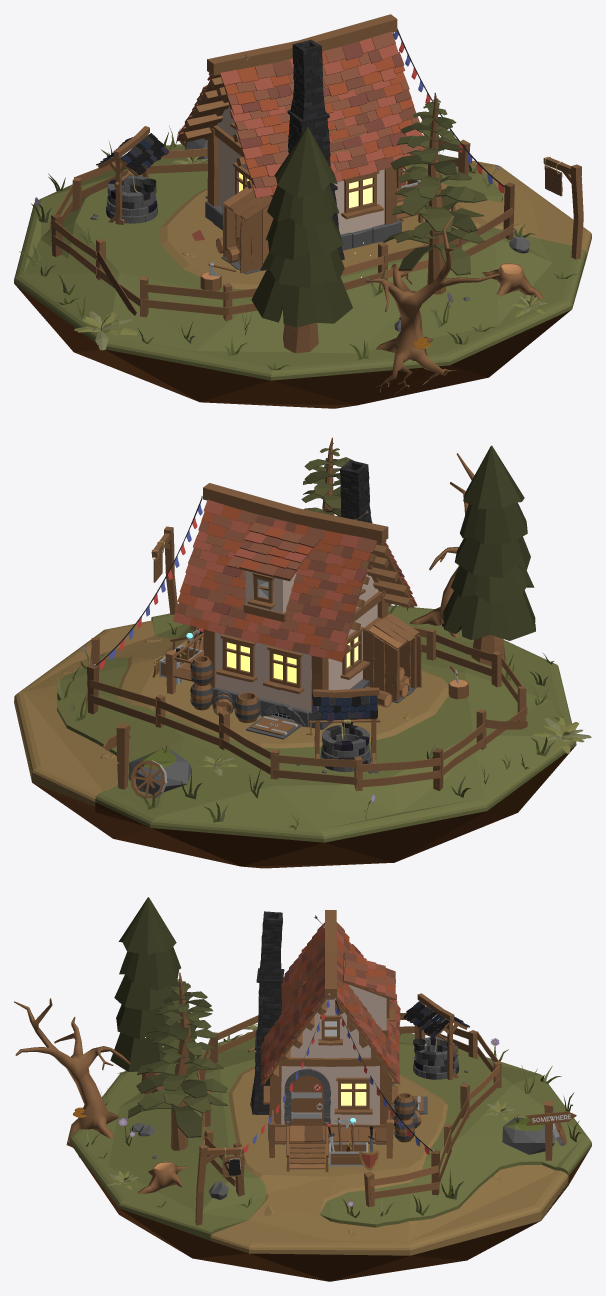
Rendered from medieval_fantasy_tavern.glb.
3 renders of one model, top to bottom at view 1: azimuth 30°, elevation 25°; view 2: azimuth 150°, elevation 25°; view 3: azimuth 270°, elevation 25°, orthographic. The views are drawn at different scales.
Visible parts, largest first — view 1: Base, Cube.026, Cylinder.016, Roof top beam, Cylinder.020, Cylinder.018, House outline, Cylinder.017, Roof tiles.047, Cylinder.019, Roof tiles.045, Roof tiles.046 (+30 smaller); view 2: Base, House outline, Cylinder.016, Roof top beam, Window frame.001, Cylinder.018, Cylinder.020, Cylinder.019, Cylinder.017, Roof tiles.026, Roof tiles.015, Roof tiles.016 (+41 smaller); view 3: Base, Cube.026, House outline, House outline.003, Cylinder.020, Cylinder.019, Cylinder.007, Cylinder.016, Cylinder.017, Cylinder.018, Icosphere.004, Window frame.004 (+19 smaller).
Part boxes in pixels (x1=…): Base: x1=14, y1=144, x2=591, y2=408; Cube.026: x1=365, y1=215, x2=499, y2=395; Cylinder.016: x1=251, y1=270, x2=352, y2=327; Roof top beam: x1=207, y1=14, x2=397, y2=75; Cylinder.020: x1=274, y1=127, x2=337, y2=197; Cylinder.018: x1=265, y1=217, x2=343, y2=260; House outline: x1=218, y1=135, x2=384, y2=234; Cylinder.017: x1=260, y1=249, x2=344, y2=288; Roof tiles.047: x1=220, y1=31, x2=395, y2=85; Cylinder.019: x1=267, y1=184, x2=339, y2=226; Roof tiles.045: x1=226, y1=52, x2=404, y2=105; Roof tiles.046: x1=224, y1=44, x2=398, y2=95; Base: x1=14, y1=605, x2=576, y2=868; House outline: x1=215, y1=601, x2=377, y2=711; Cylinder.016: x1=443, y1=590, x2=535, y2=640; Roof top beam: x1=203, y1=483, x2=388, y2=542; Window frame.001: x1=216, y1=634, x2=304, y2=694; Cylinder.018: x1=455, y1=536, x2=530, y2=577; Cylinder.020: x1=463, y1=445, x2=524, y2=508; Cylinder.019: x1=460, y1=502, x2=527, y2=544; Cylinder.017: x1=451, y1=565, x2=534, y2=602; Roof tiles.026: x1=203, y1=499, x2=377, y2=553; Roof tiles.015: x1=176, y1=602, x2=347, y2=652; Roof tiles.016: x1=177, y1=592, x2=347, y2=644; Base: x1=69, y1=1033, x2=591, y2=1281; Cube.026: x1=14, y1=998, x2=130, y2=1157; House outline: x1=281, y1=1057, x2=379, y2=1124; House outline.003: x1=274, y1=954, x2=370, y2=1057; Cylinder.020: x1=118, y1=897, x2=176, y2=955; Cylinder.019: x1=119, y1=947, x2=180, y2=990; Cylinder.007: x1=291, y1=1075, x2=323, y2=1125; Cylinder.016: x1=110, y1=1032, x2=195, y2=1071; Cylinder.017: x1=116, y1=1004, x2=180, y2=1039; Cylinder.018: x1=114, y1=974, x2=179, y2=1011; Icosphere.004: x1=502, y1=1117, x2=554, y2=1154; Window frame.004: x1=334, y1=1077, x2=372, y2=1114.
Size of the model in its own units: 14.67 by 9.7 by 16.46.
Materials: 61 (2 with a texture image).
